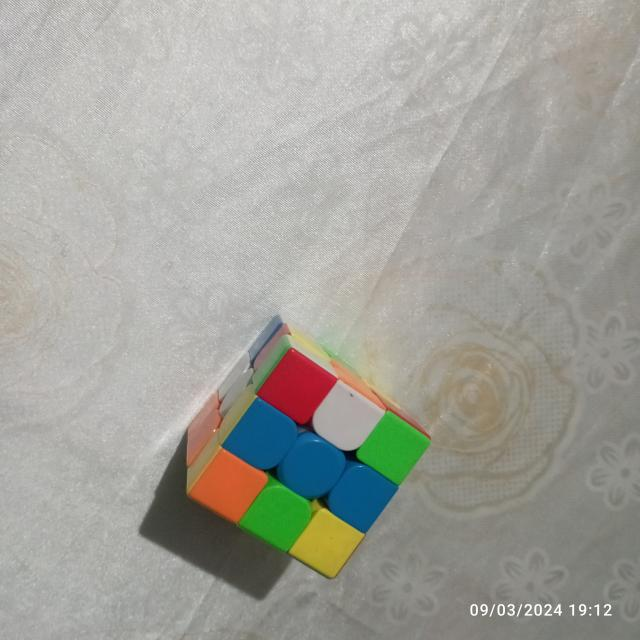Rub: (175, 310, 434, 587)
